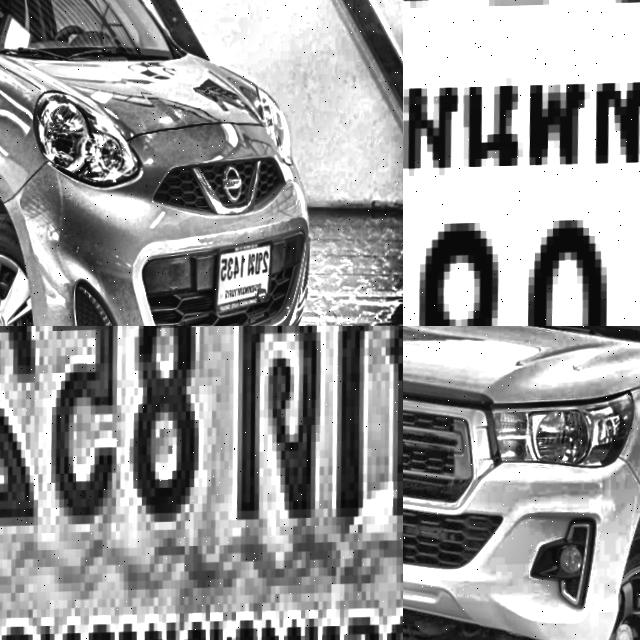license-plate: (0, 326, 403, 640), (403, 0, 640, 326), (213, 230, 279, 326)
